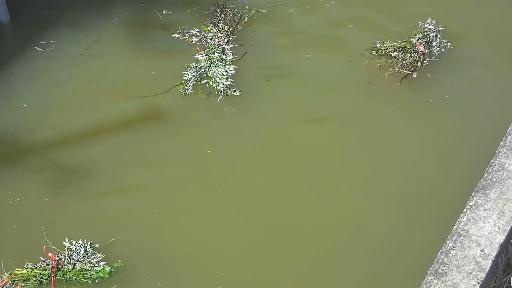twig: (158, 0, 264, 102), (348, 6, 462, 82), (0, 233, 119, 288)
